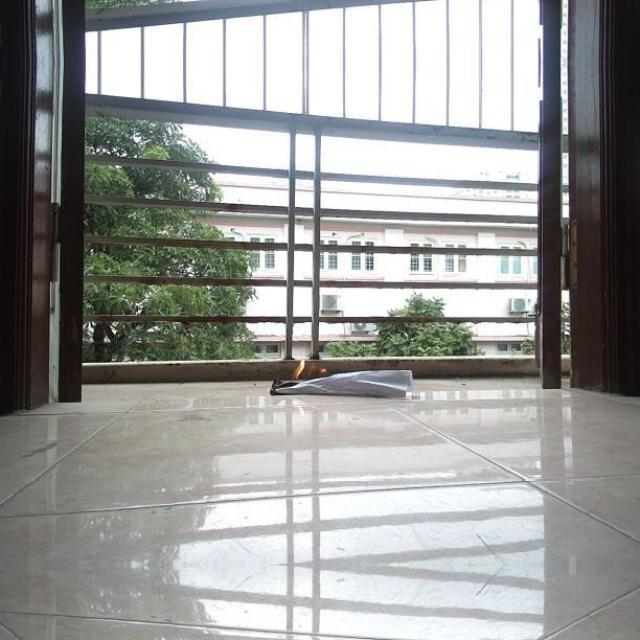smoke: (288, 358, 326, 380)
